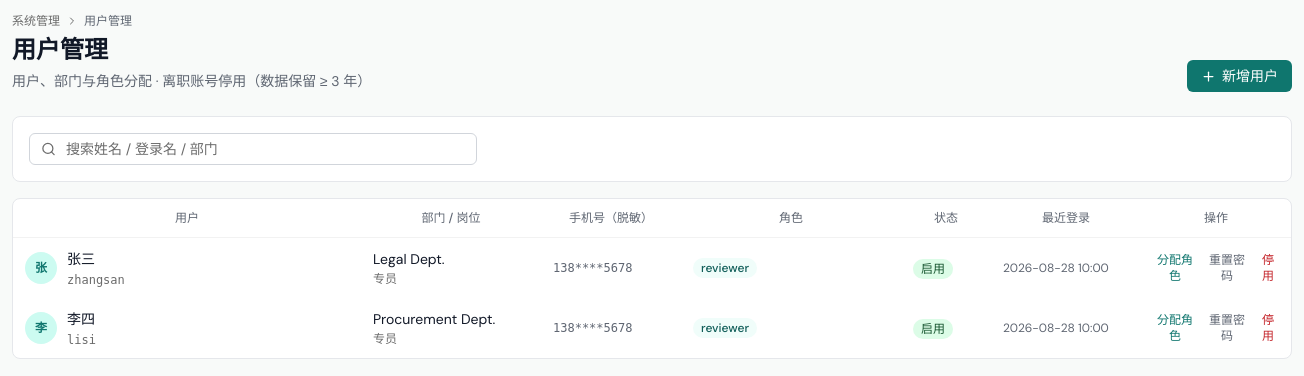
Test case: UserManagementView › 关键词过滤用户名/姓名/部门
The width and height of the screenshot is (1304, 376).
Type "采购" into the field with placeholder "搜索姓名 / 登录名 / 部门" at (253, 149), box [29,133,477,165]
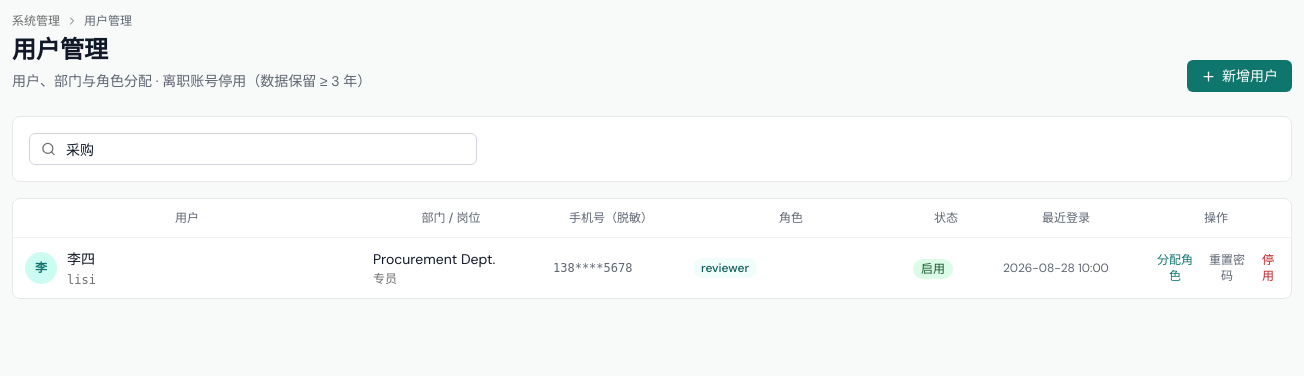
Expected: the text "李四" is shown, [67,248,96,270]
Now the text "张三" is gone
